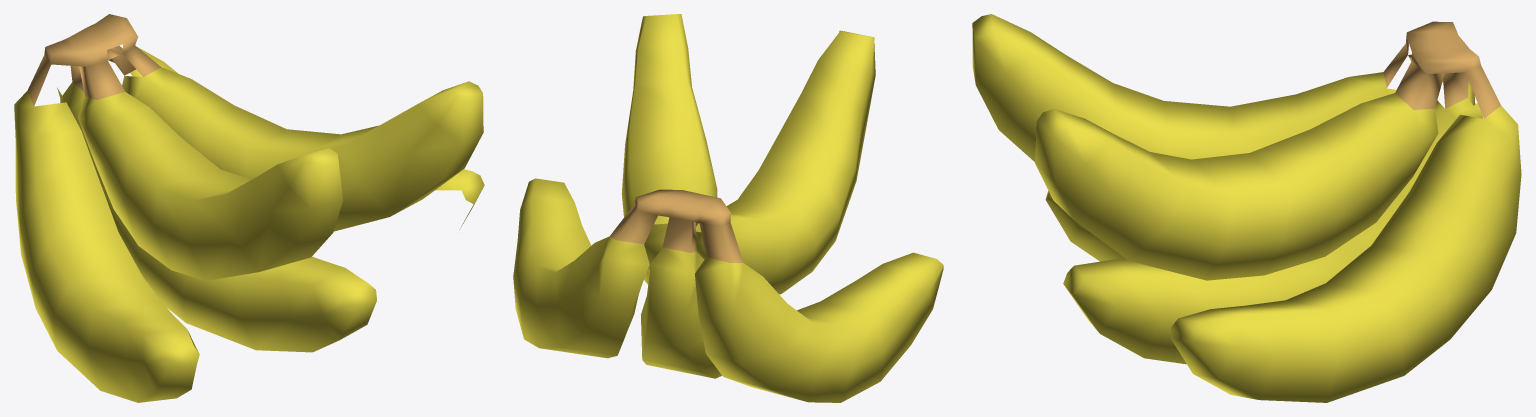
The model's file is polypizza-banana.glb.
3 views of the same model, side by side, from view 1: azimuth 30°, elevation 25°; view 2: azimuth 150°, elevation 25°; view 3: azimuth 270°, elevation 25° (orthographic). The views are drawn at different scales.
Parts seen in each view (by area): view 1: Banana2; view 2: Banana2; view 3: Banana2.
Part boxes in pixels (x1,y1,x2,y2): Banana2: (14, 14, 484, 402); Banana2: (513, 14, 943, 402); Banana2: (972, 14, 1521, 402).
Size of the model in its own units: 0.9112 by 0.6286 by 1.
